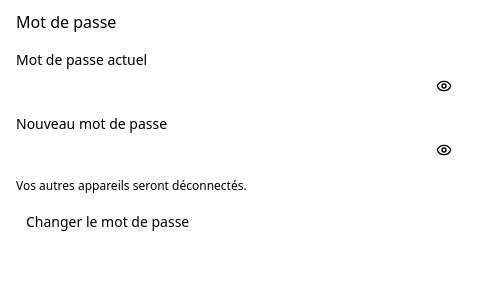
it: change le mot de passe en donnant l'actuel
Type "ancien-mot-de-passe" into the password field labelled "Mot de passe actuel" at (240, 86), box 16,70 -> 464,102
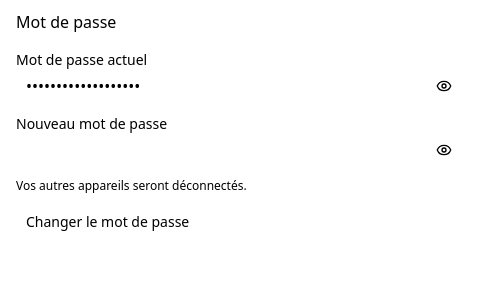
Type "un-nouveau-mot-de-passe" into the password field labelled "Nouveau mot de passe" at (240, 150), box 16,134 -> 464,166
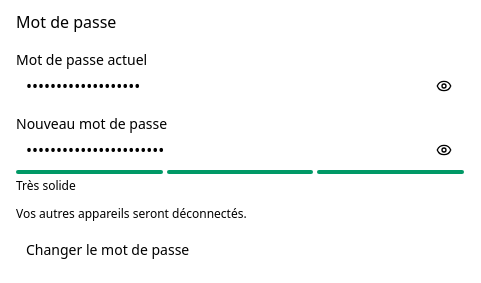
Click the button "Changer le mot de passe" at (108, 250), box 16,234 -> 199,266
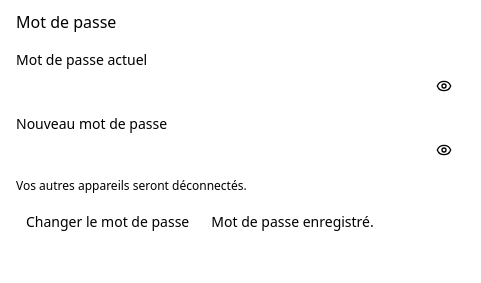
Expected: the text "Mot de passe enregistré." is shown, 211,212 -> 374,232
